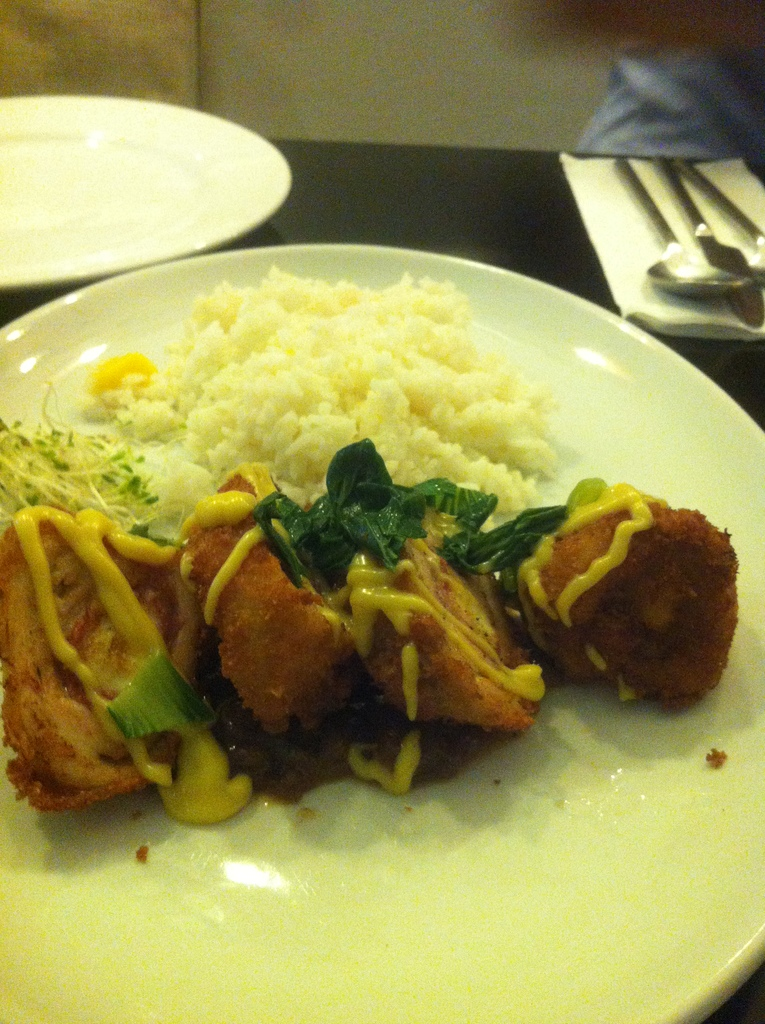plate: (0, 94, 287, 263)
